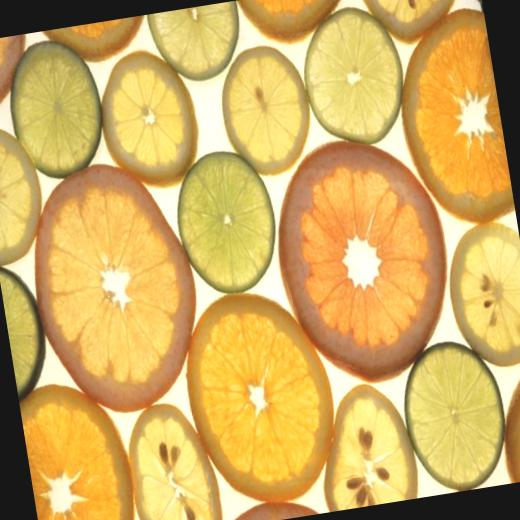Grape: (260, 127, 463, 390), (21, 156, 212, 418), (180, 298, 353, 516), (19, 383, 137, 520), (0, 270, 47, 398)
